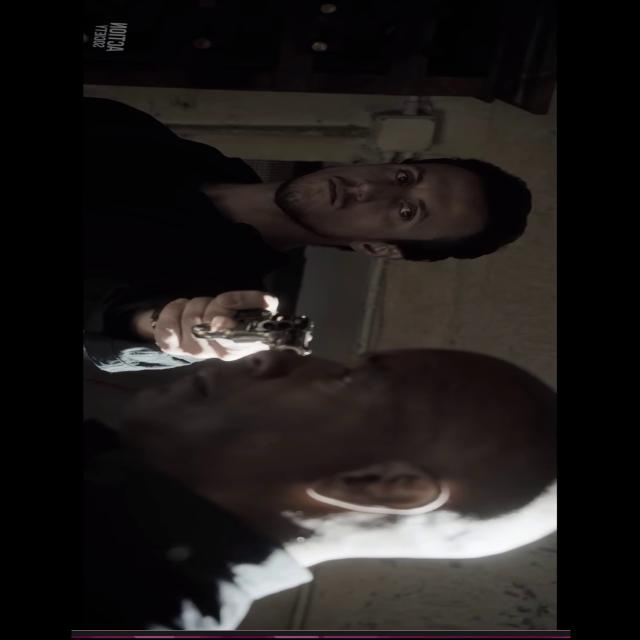weapons: (161, 280, 335, 356)
